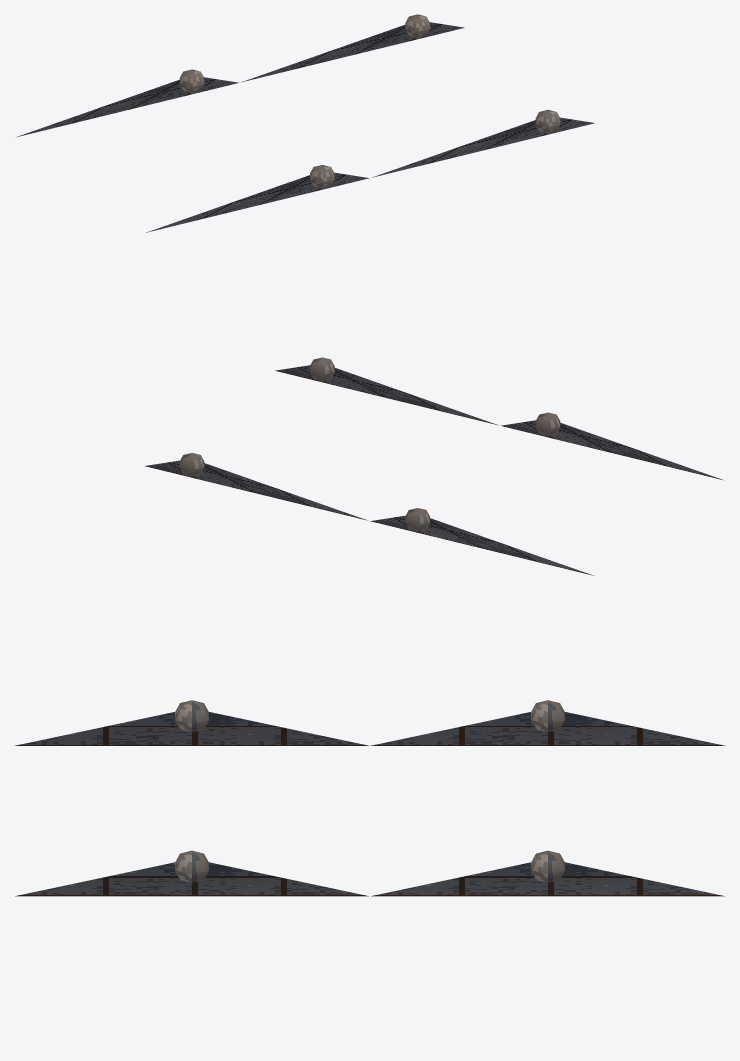
File: dgn.ceiling__groin.glb
The picture shows the model from 3 angles, top to bottom: view 1: azimuth 30°, elevation 25°; view 2: azimuth 150°, elevation 25°; view 3: azimuth 270°, elevation 25°; orthographic projection. The views are drawn at different scales.
Visible parts, largest first — view 1: kit_shell_groin, kit_boss; view 2: kit_shell_groin, kit_boss; view 3: kit_shell_groin, kit_boss.
Boxes of the visible parts, box(x1,y1,x2,y2) form: kit_shell_groin: box(16, 22, 594, 232); kit_boss: box(179, 14, 560, 188); kit_shell_groin: box(145, 365, 723, 575); kit_boss: box(179, 357, 560, 531); kit_shell_groin: box(14, 712, 725, 896); kit_boss: box(175, 700, 564, 882).
Size of the model in its own units: 8 by 1.48 by 8.
Materials: 2 (2 with a texture image).
